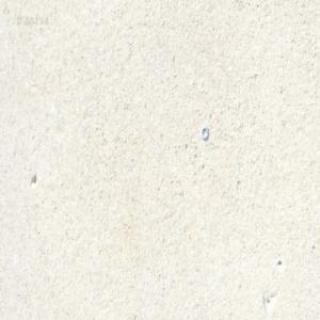Washertrack_idkeyframe: (200, 124, 208, 140)
